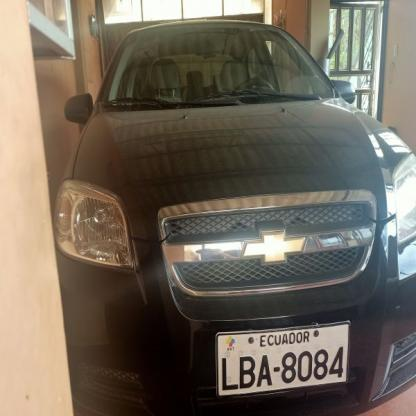Placa: (214, 327, 356, 396)
